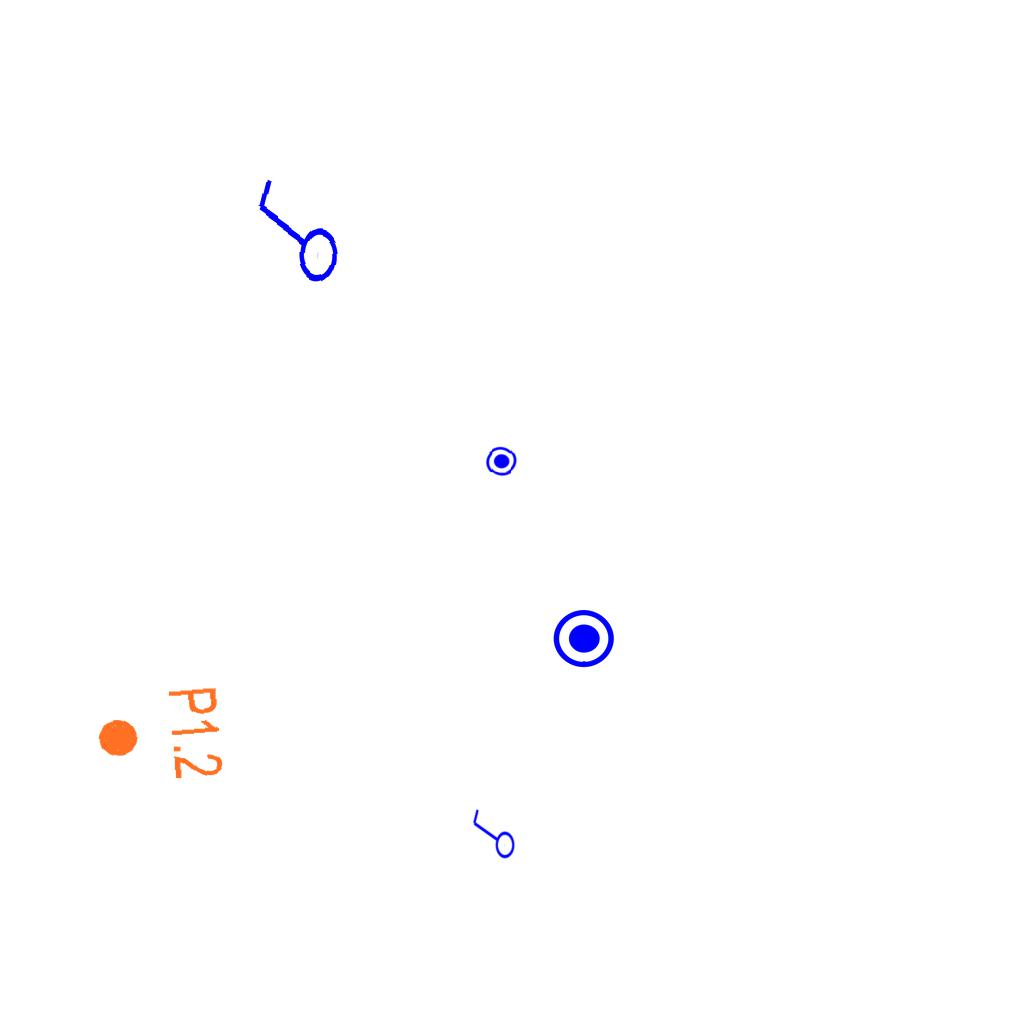Ausschalter: (241, 175, 347, 295), (468, 808, 516, 864)
Downlight_LED_Einbauleuchten_Flur: (91, 684, 228, 788)
Taster: (551, 608, 617, 674), (484, 445, 519, 480)
